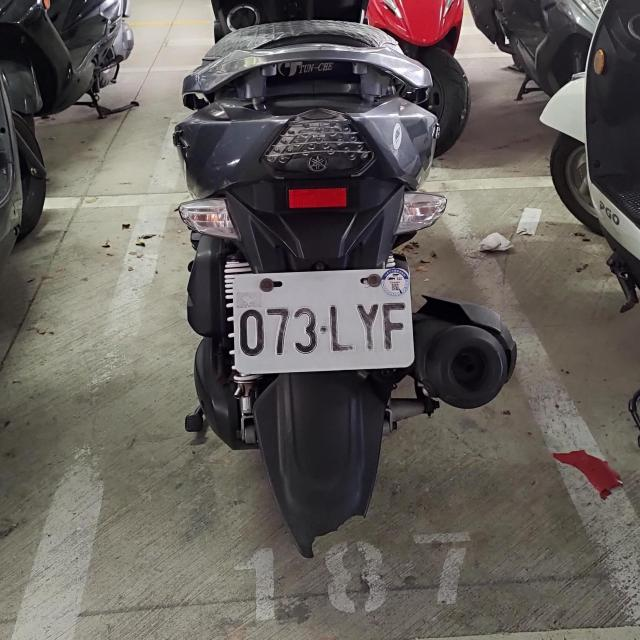W: (232, 269, 412, 372)
